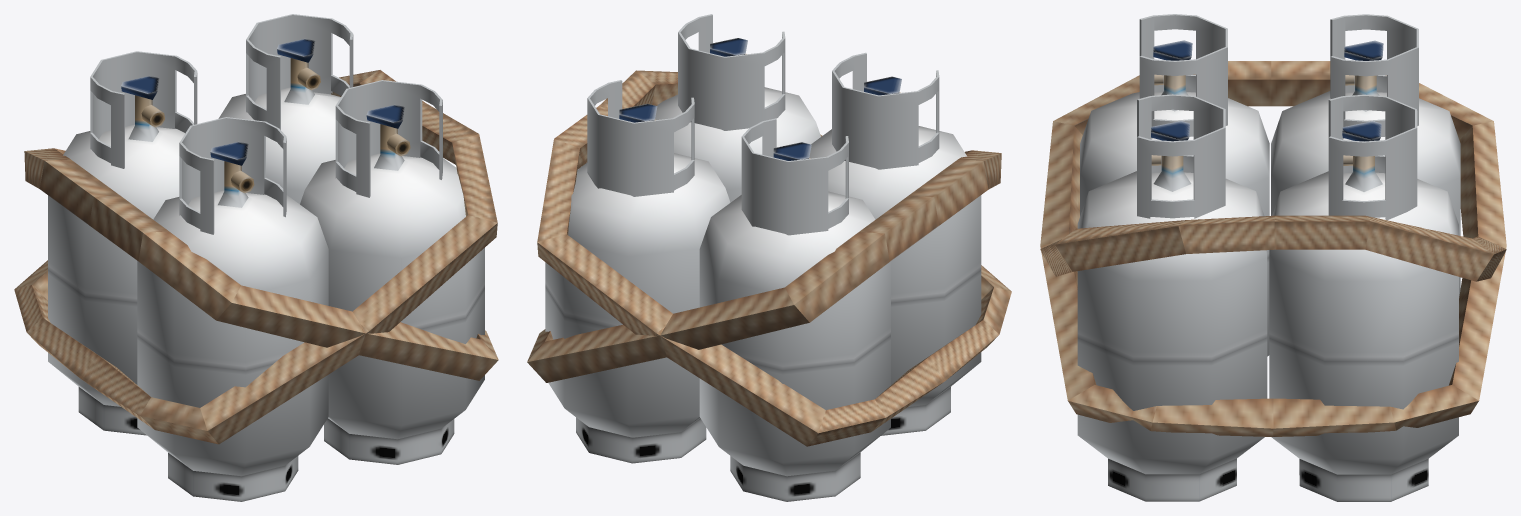
Rendered from stack_of_propane_tanks.fbx.
3 renders of one model, left to right at view 1: azimuth 30°, elevation 25°; view 2: azimuth 150°, elevation 25°; view 3: azimuth 270°, elevation 25°, orthographic. The views are drawn at different scales.
Parts seen in each view (by area): view 1: PropaneTankPack; view 2: PropaneTankPack; view 3: PropaneTankPack.
Boxes of the visible parts, <box> form: PropaneTankPack: <box>14,14,498,501</box>; PropaneTankPack: <box>527,14,1011,501</box>; PropaneTankPack: <box>1040,14,1506,501</box>.
Size of the model in its own units: 0.3646 by 0.3272 by 0.3884.
